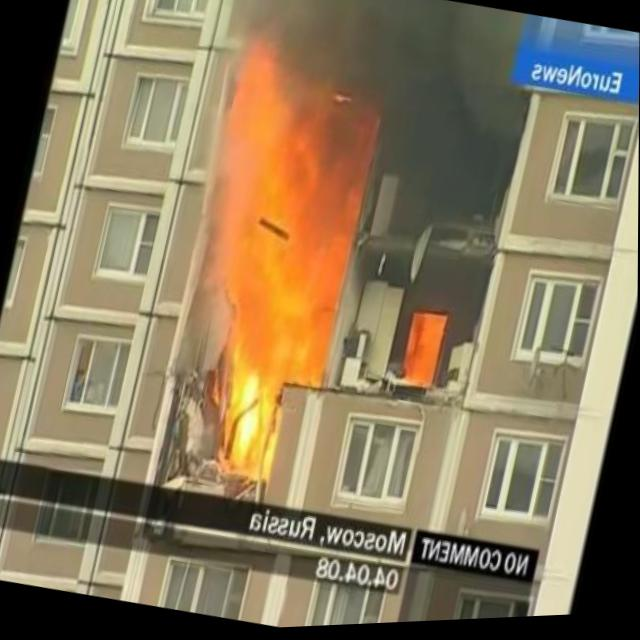fire: (162, 39, 390, 484), (395, 312, 446, 396)
